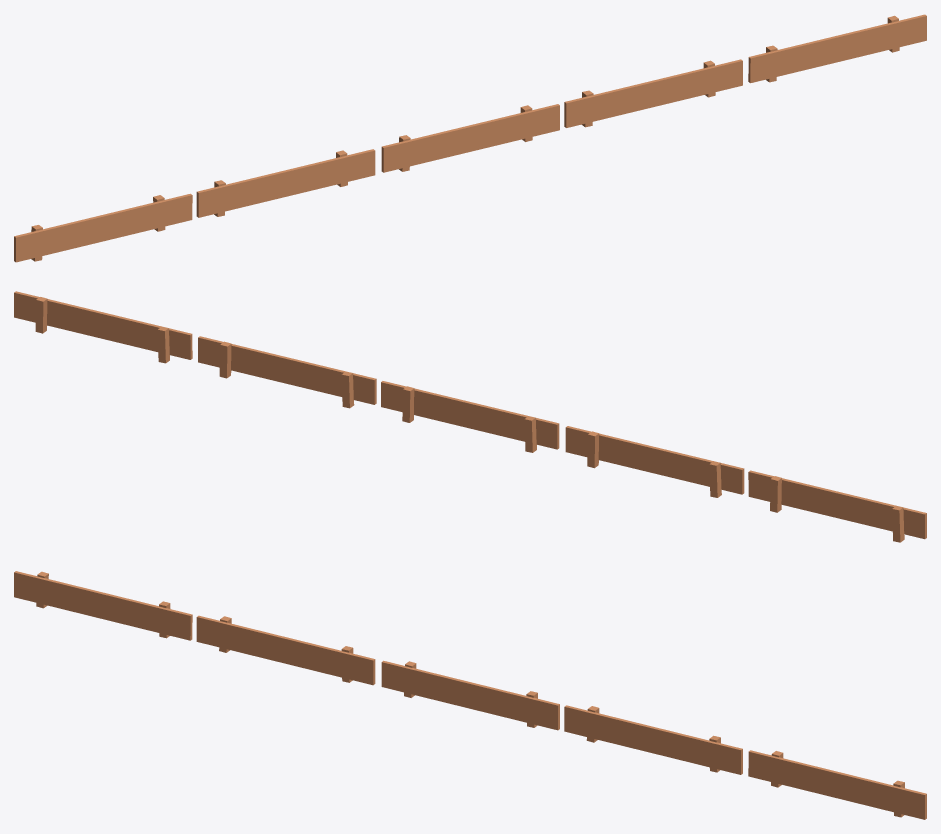
The model's file is fence.gltf.
3 renders of one model, top to bottom at view 1: azimuth 30°, elevation 25°; view 2: azimuth 150°, elevation 25°; view 3: azimuth 330°, elevation 25°, orthographic.
Visible parts, largest first — view 1: Cube.007, Cube.010, Cube.013, Cube.003, Cube.004; view 2: Cube.007, Cube.010, Cube.013, Cube.004, Cube.003; view 3: Cube.007, Cube.004, Cube.010, Cube.013, Cube.003.
Boxes of the visible parts, bbox=[...] form: Cube.007: bbox=[196, 149, 375, 217]; Cube.010: bbox=[14, 193, 192, 262]; Cube.013: bbox=[748, 14, 926, 83]; Cube.003: bbox=[381, 104, 559, 172]; Cube.004: bbox=[564, 59, 742, 127]; Cube.007: bbox=[565, 426, 744, 494]; Cube.010: bbox=[748, 470, 926, 539]; Cube.013: bbox=[14, 291, 192, 359]; Cube.004: bbox=[198, 336, 376, 404]; Cube.003: bbox=[381, 381, 559, 449]; Cube.007: bbox=[196, 615, 375, 685]; Cube.004: bbox=[564, 705, 742, 774]; Cube.010: bbox=[14, 571, 192, 640]; Cube.013: bbox=[748, 750, 926, 819]; Cube.003: bbox=[381, 660, 559, 730].
Size of the model in its own units: 22.33 by 0.757 by 0.2538.
